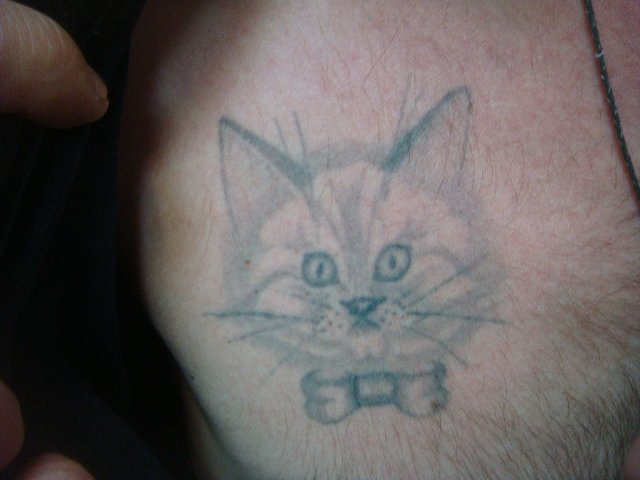tatu8_kot: (199, 91, 512, 427)
